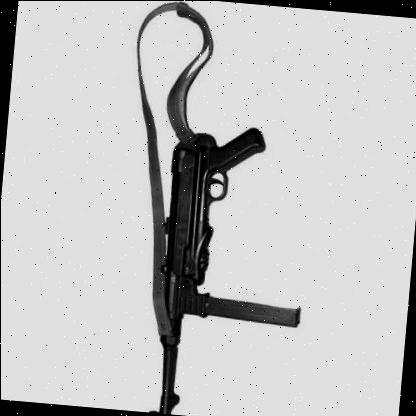rifle: (114, 108, 318, 416)
